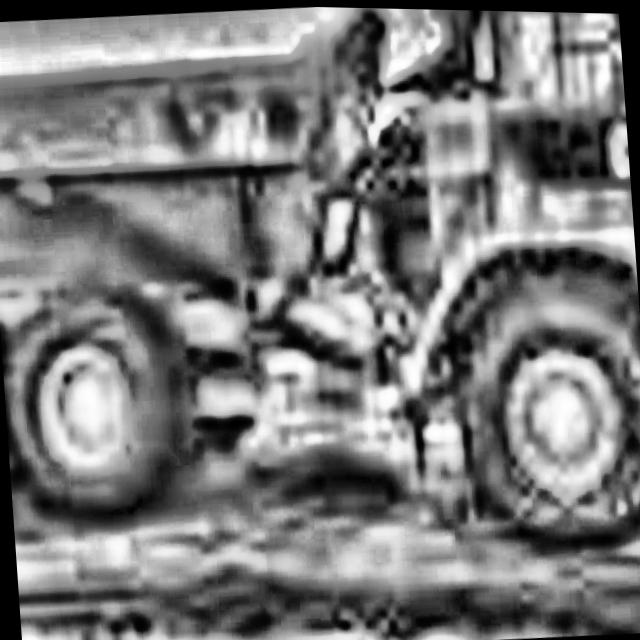dump_truck: (0, 0, 640, 591)
